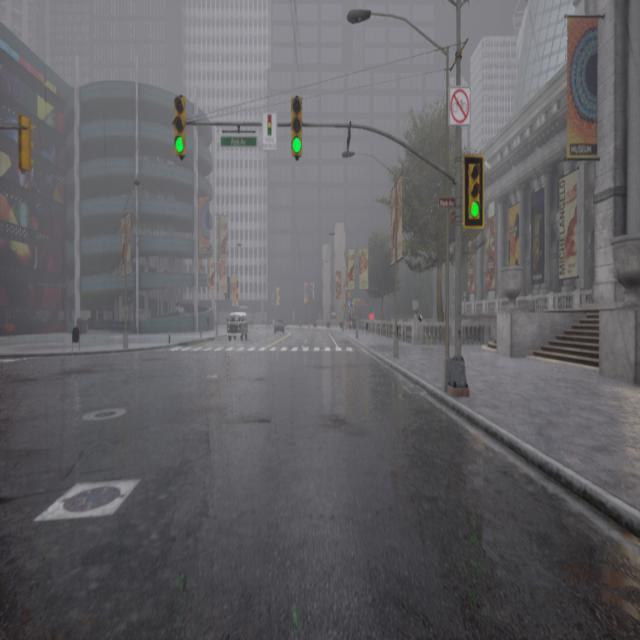11: (447, 84, 472, 128)
bien_chi_dan: (467, 198, 480, 220), (292, 140, 302, 154), (176, 140, 183, 154)
bien_nguy_hiem: (458, 155, 488, 234), (288, 90, 310, 163), (172, 92, 192, 165)
